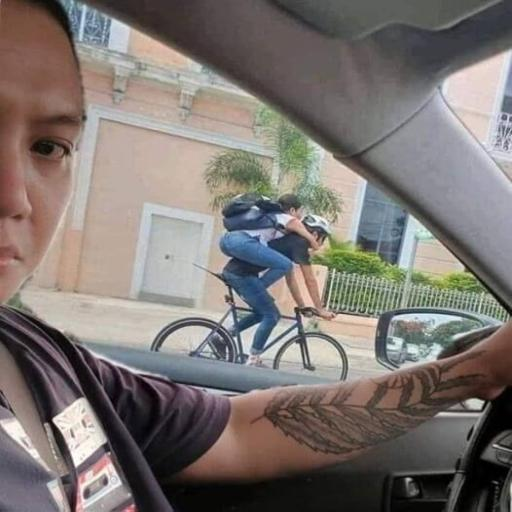bag: (151, 269, 348, 380)
crosswalk: (217, 214, 335, 366)
